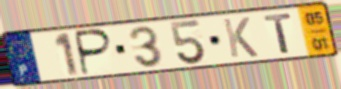1: (52, 31, 81, 78)
3: (129, 24, 163, 70)
5: (167, 19, 207, 67)
K: (220, 16, 261, 59)
P: (74, 27, 115, 78)
T: (262, 12, 295, 55)
